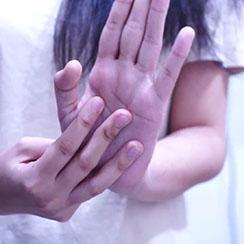M: (0, 0, 217, 244)
